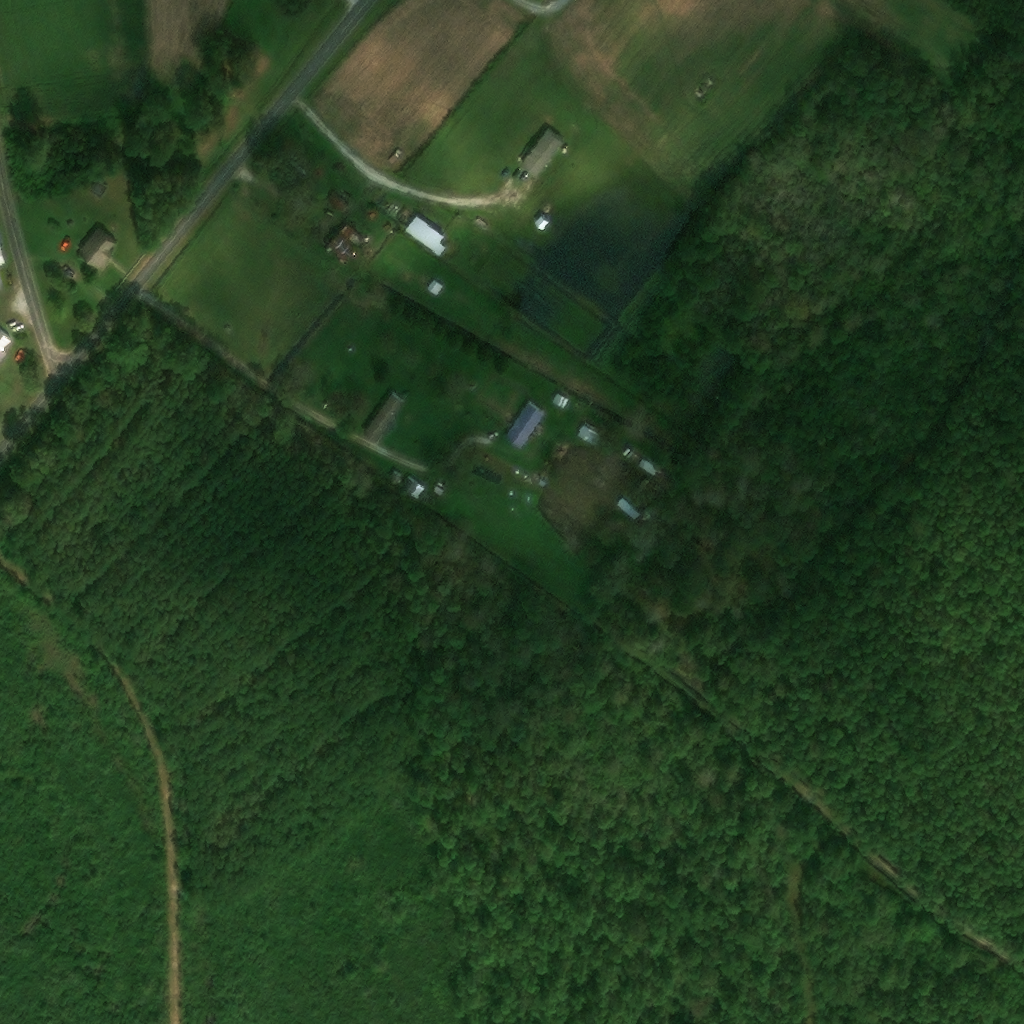no_damage: (358, 391, 406, 444), (501, 401, 547, 451), (518, 127, 563, 178), (404, 214, 447, 258), (77, 228, 116, 272), (327, 223, 366, 262), (574, 424, 604, 450), (614, 498, 640, 522), (399, 476, 425, 500), (633, 479, 662, 499), (89, 179, 110, 201), (1, 329, 14, 361), (327, 194, 350, 212), (636, 459, 658, 477), (638, 584, 658, 603), (425, 280, 444, 298), (551, 393, 569, 411), (520, 229, 538, 247), (386, 471, 403, 487), (537, 472, 552, 490), (600, 439, 616, 455), (632, 549, 646, 565), (418, 495, 431, 509), (432, 488, 444, 500)
